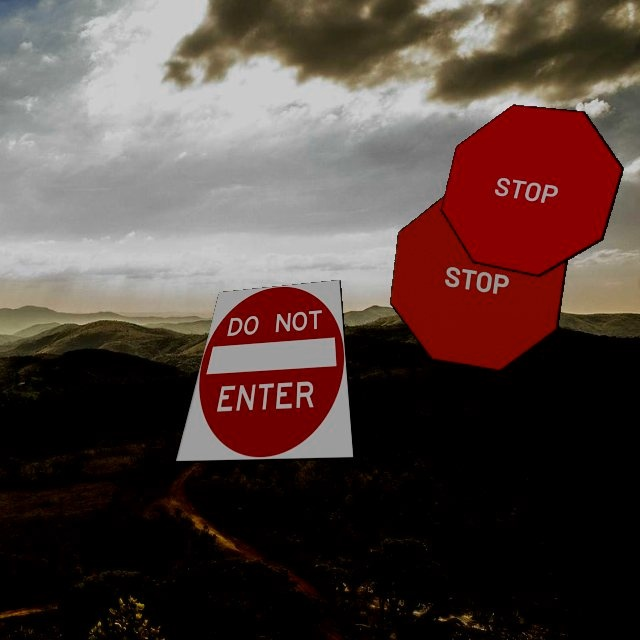DO_NOT_ENTER: (174, 279, 355, 463)
STOP: (389, 188, 568, 372), (440, 104, 624, 277)
